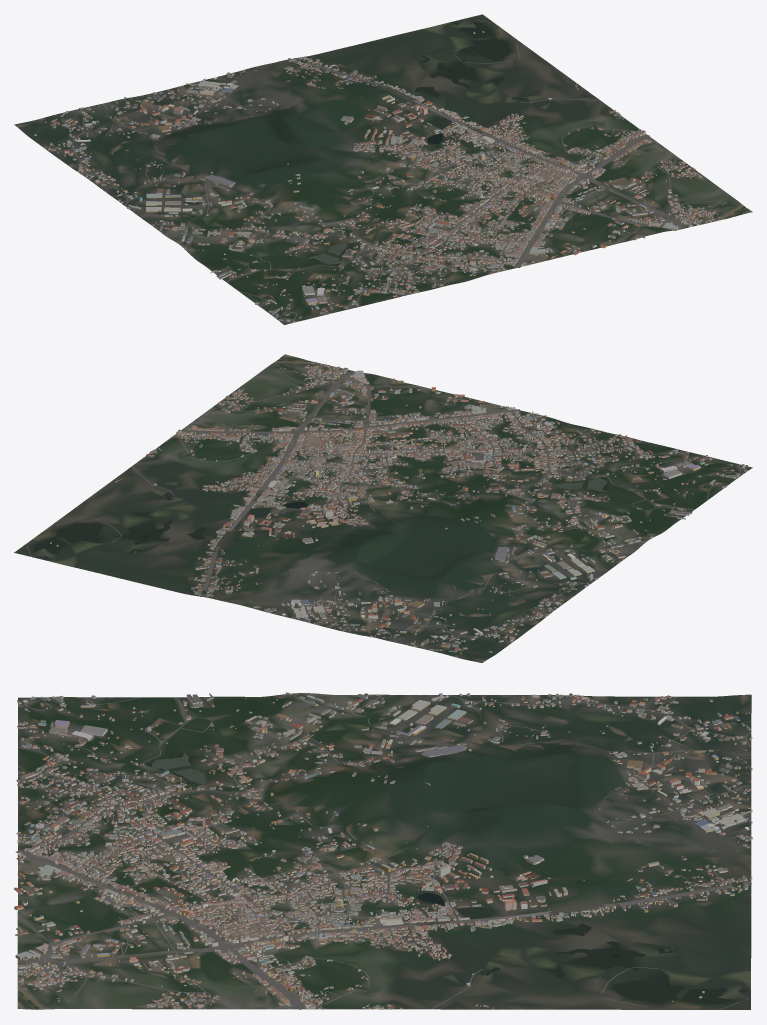
3 views of the same model, one above another, from view 1: azimuth 30°, elevation 25°; view 2: azimuth 150°, elevation 25°; view 3: azimuth 270°, elevation 25° (orthographic). The views are drawn at different scales.
Visible parts, largest first — view 1: ground, buildings, roads, water; view 2: ground, buildings, roads, water; view 3: ground, buildings, roads, water.
Boxes of the visible parts, left/top/right/bottom form: ground: left=14, top=14, right=752, bottom=324; buildings: left=33, top=31, right=733, bottom=323; roads: left=42, top=20, right=742, bottom=321; water: left=264, top=22, right=745, bottom=264; ground: left=14, top=354, right=752, bottom=662; buildings: left=50, top=362, right=747, bottom=656; roads: left=26, top=362, right=741, bottom=649; water: left=33, top=359, right=619, bottom=559; ground: left=17, top=693, right=751, bottom=1009; buildings: left=14, top=692, right=752, bottom=1009; roads: left=15, top=695, right=751, bottom=1009; water: left=18, top=734, right=747, bottom=1009.
Bounding box in the file's own units: 2830 × 113 × 2825.
